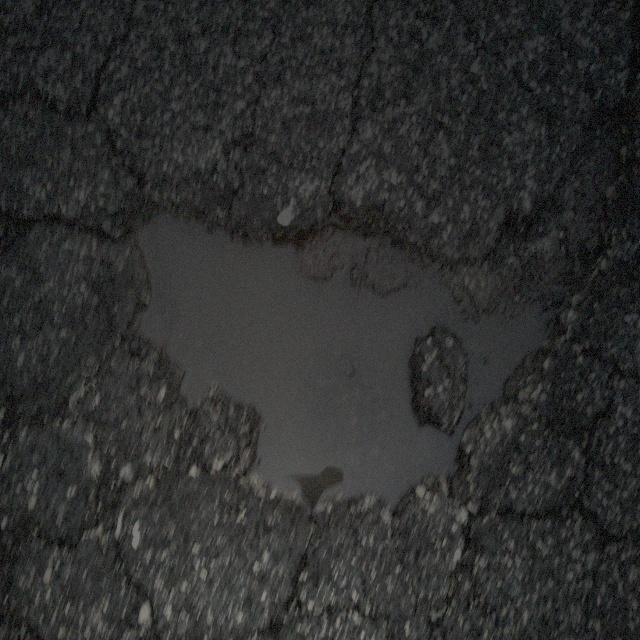pothole: (115, 173, 571, 522)
